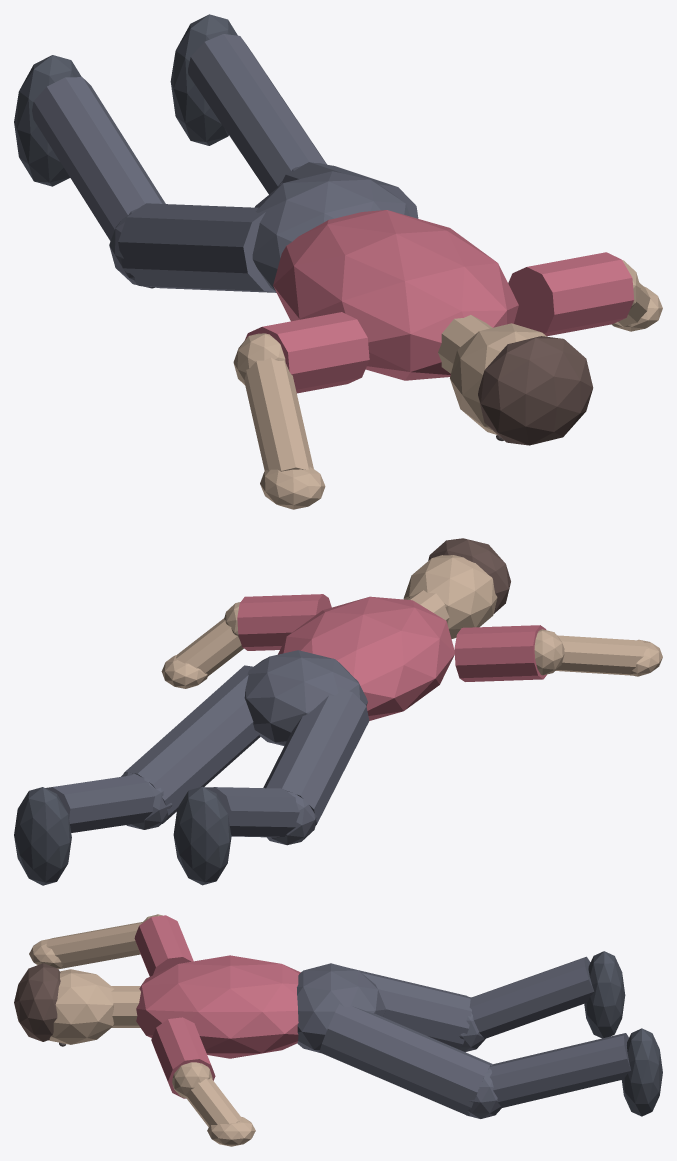
3 views of the same model, one above another, from view 1: azimuth 30°, elevation 25°; view 2: azimuth 150°, elevation 25°; view 3: azimuth 270°, elevation 25° (orthographic). The views are drawn at different scales.
Parts seen in each view (by area): view 1: world; view 2: world; view 3: world.
Boxes of the visible parts, x1,y1,x2,y2 form: world: (14, 14, 662, 509); world: (14, 538, 662, 885); world: (14, 914, 662, 1146).
Bounding box in the file's own units: 1.25 × 0.3942 × 2.
